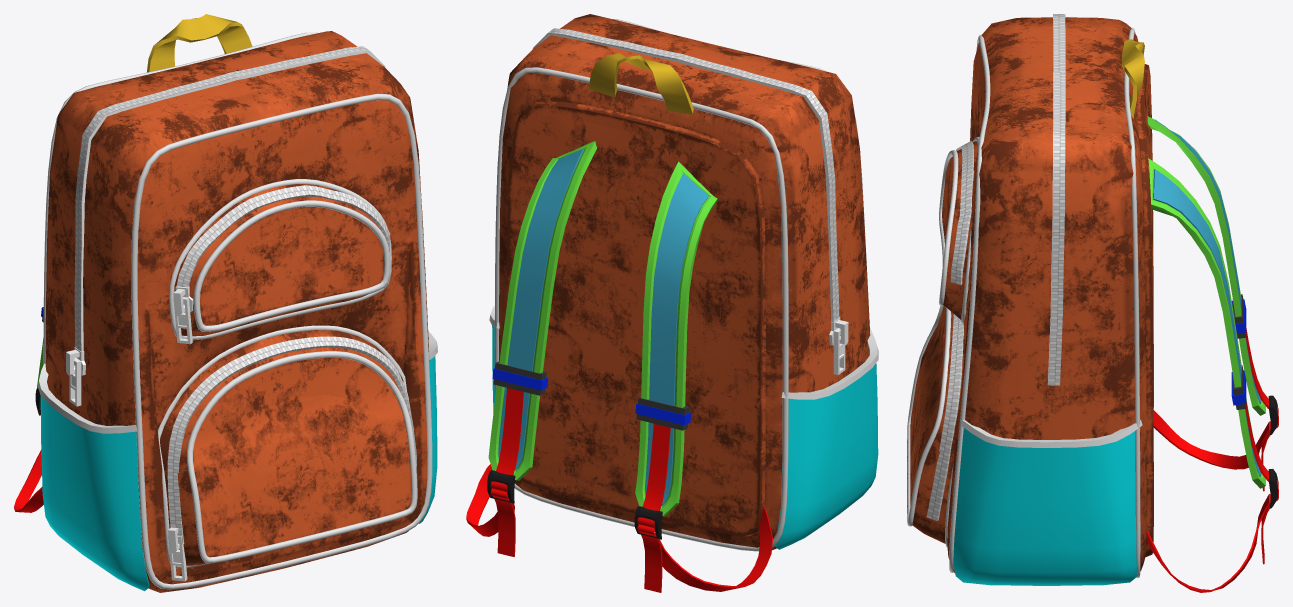
Rendered from Ranac 3.FBX.
The picture shows the model from 3 angles, left to right: view 1: azimuth 30°, elevation 25°; view 2: azimuth 150°, elevation 25°; view 3: azimuth 270°, elevation 25°; orthographic projection. The views are drawn at different scales.
Visible parts, largest first — view 1: Box028, Shape023, Object034, Shape020; view 2: Box028, Object034, Shape023, Shape020; view 3: Box028, Object034, Shape023, Shape020.
Boxes of the visible parts, x1,y1,x2,y2 form: Box028: (45, 31, 428, 592); Shape023: (38, 32, 437, 589); Object034: (14, 14, 437, 591); Shape020: (66, 46, 416, 581); Box028: (499, 14, 870, 550); Object034: (466, 53, 878, 592); Shape023: (489, 19, 878, 551); Shape020: (533, 28, 848, 374); Box028: (910, 17, 1153, 572); Object034: (953, 39, 1278, 592); Shape023: (907, 28, 1142, 577); Shape020: (926, 14, 1065, 520).
Bounding box in the file's own units: 105 × 138 × 95.41.
